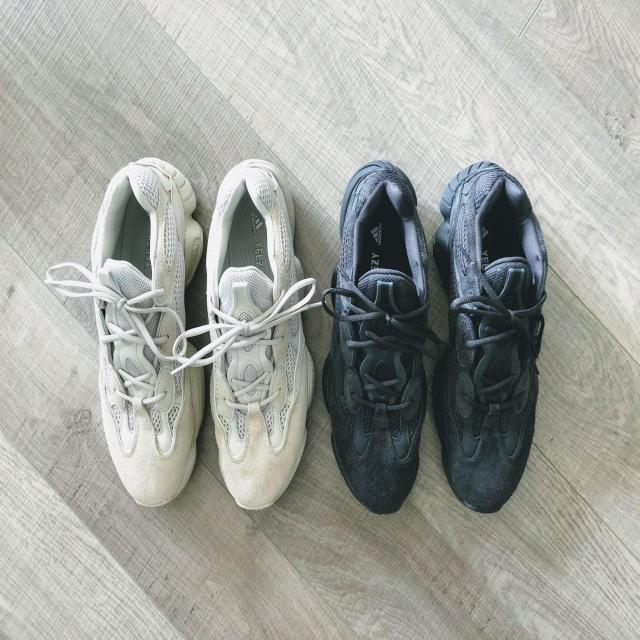shoe: (83, 150, 197, 561), (431, 151, 553, 524), (206, 156, 316, 542), (318, 158, 433, 520)
